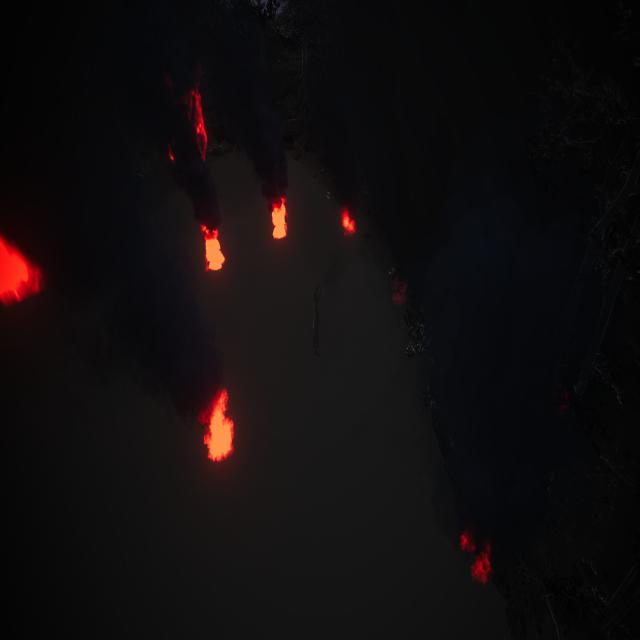Human: (303, 274, 330, 365)
